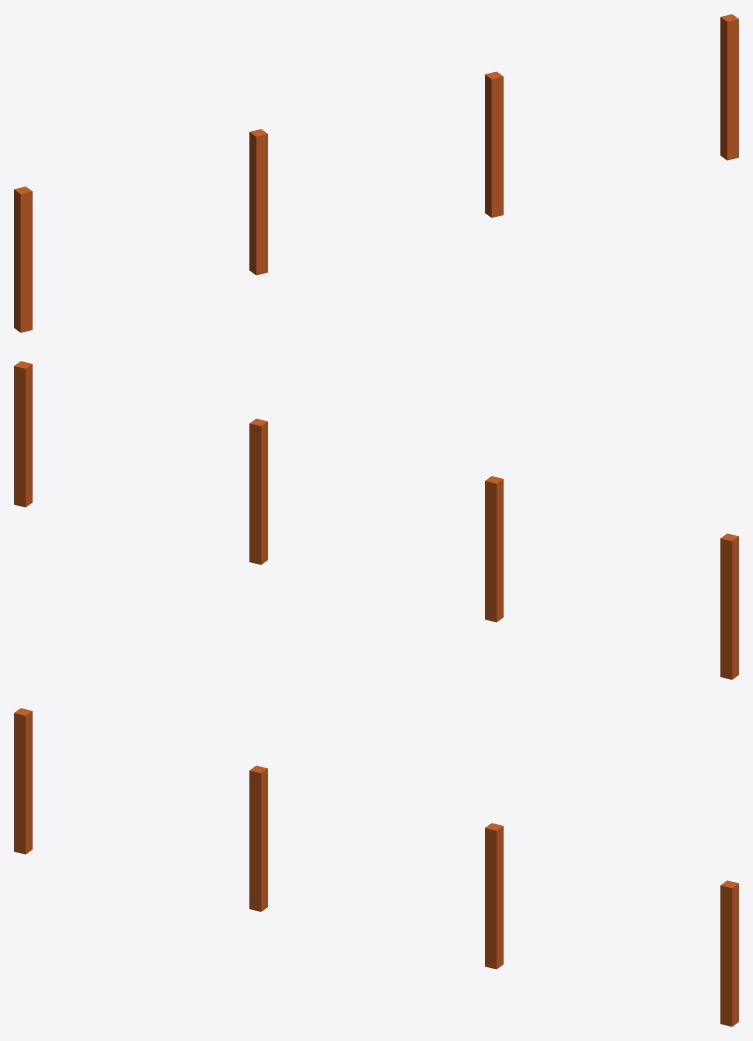
The model's file is Fence_1.fbx.
3 renders of one model, top to bottom at view 1: azimuth 30°, elevation 25°; view 2: azimuth 150°, elevation 25°; view 3: azimuth 330°, elevation 25°, orthographic.
Parts seen in each view (by area): view 1: Fence_1; view 2: Fence_1; view 3: Fence_1.
Boxes of the visible parts, x1,y1,x2,y2 form: Fence_1: (14,14,738,332); Fence_1: (14,361,738,679); Fence_1: (14,708,738,1026).
Bounding box in the file's own units: 305 × 56.25 × 5.
